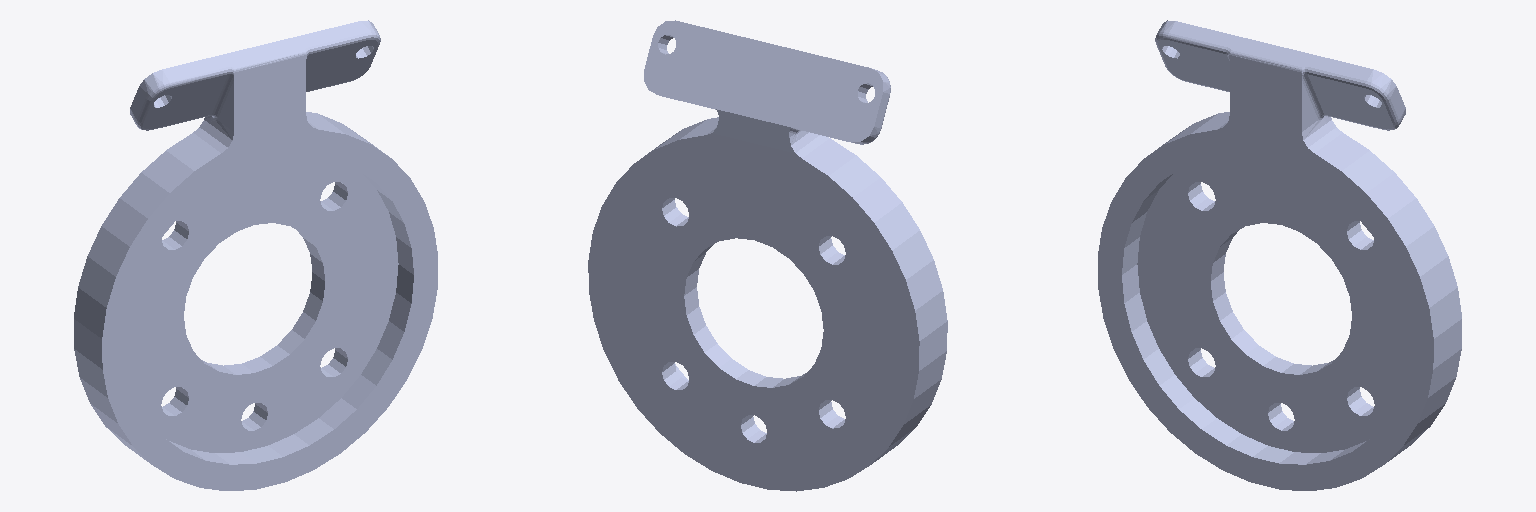
robot.urdf — Beugel.SLDPRT:
<?xml version="1.0" encoding="utf-8"?>
<!-- This URDF was automatically created by SolidWorks to URDF Exporter! Originally created by [author] ([email redacted]) 
     Commit Version: 1.5.1-0-g916b5db  Build Version: 1.5.7152.31018
     For more information, please see http://wiki.ros.org/sw_urdf_exporter -->
<robot
  name="Beugel.SLDPRT">
  <link
    name="Beugel.SLDPRT">
    <inertial>
      <origin
        xyz="5.3816E-10 -0.009384 0.0069302"
        rpy="0 0 0" />
      <mass
        value="0.02897" />
      <inertia
        ixx="1.9588E-05"
        ixy="-1.0828E-13"
        ixz="2.4666E-14"
        iyy="3.1685E-05"
        iyz="-3.26680000000001E-07"
        izz="1.261E-05" />
    </inertial>
    <visual>
      <origin
        xyz="0 0 0"
        rpy="1.5707963267949 0 0" />
      <geometry>
        <mesh
          filename="package://binpicking_support/beugel/meshes/Beugel.SLDPRT.STL" />
      </geometry>
      <material
        name="">
        <color
          rgba="0.79216 0.81961 0.93333 1" />
        <texture
          filename="package://binpicking_support/beugel/textures/" />
      </material>
    </visual>
    <collision>
      <origin
        xyz="0 0 0"
        rpy="1.5707963267949 0 0" />
      <geometry>
        <mesh
          filename="package://binpicking_support/beugel/meshes/Beugel.SLDPRT.STL" />
      </geometry>
    </collision>
  </link>
</robot>

--- Render facts (derived) ---
Views: 3 orthographic renders of the robot side by side, from view 1: azimuth 30°, elevation 25°; view 2: azimuth 150°, elevation 25°; view 3: azimuth 330°, elevation 25°.
Robot: Beugel.SLDPRT — 1 links, 0 joints (none); root link Beugel.SLDPRT; default pose: all joints at 0.
Links seen in each view (by area): view 1: Beugel.SLDPRT; view 2: Beugel.SLDPRT; view 3: Beugel.SLDPRT.
Boxes of the visible links, box(x1,y1,x2,y2) form: Beugel.SLDPRT: box(74, 20, 437, 490); Beugel.SLDPRT: box(588, 20, 947, 491); Beugel.SLDPRT: box(1098, 20, 1461, 490).
Bounding box of the posed robot: 0.0748 × 0.011 × 0.0924 m (x, y, z).
1 mesh visuals loaded from 1 distinct referenced files (1 binary STL).